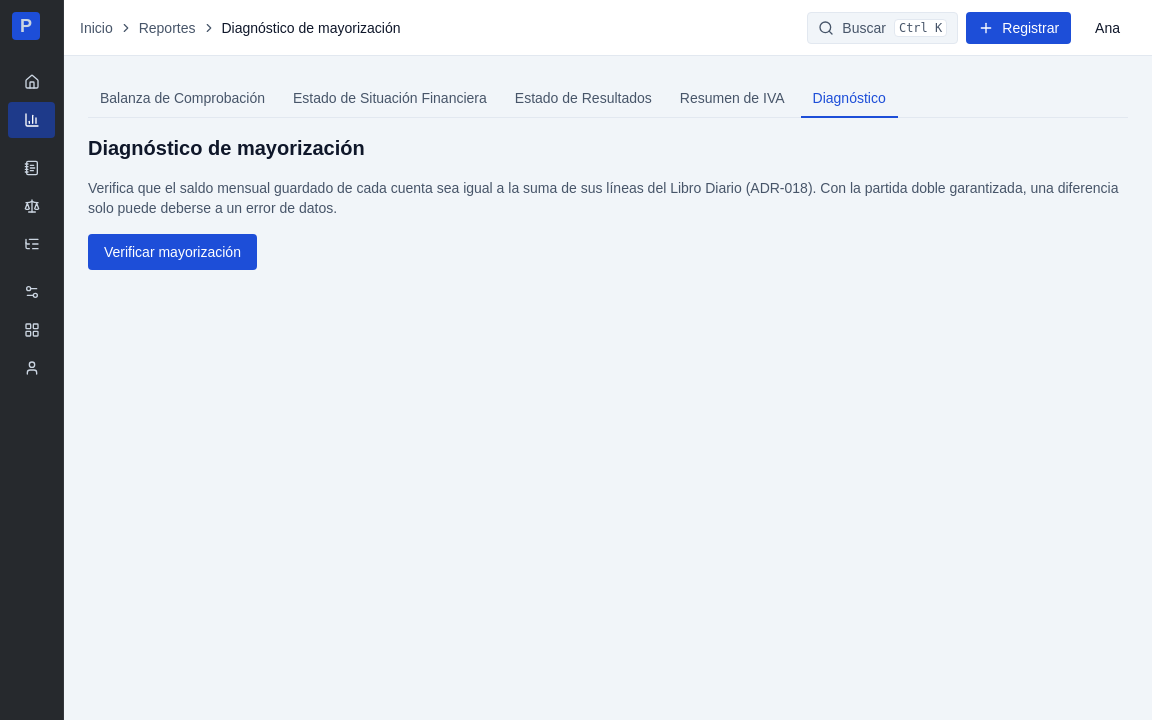
Scenario: Diagnóstico de mayorización › muestra la tabla de diferencias cuando no es consistente
The width and height of the screenshot is (1152, 720).
Expected: the heading "Diagnóstico de mayorización" is shown, left=88, top=137, right=365, bottom=159
Click the button "Verificar mayorización" at (172, 252), box left=88, top=234, right=257, bottom=270
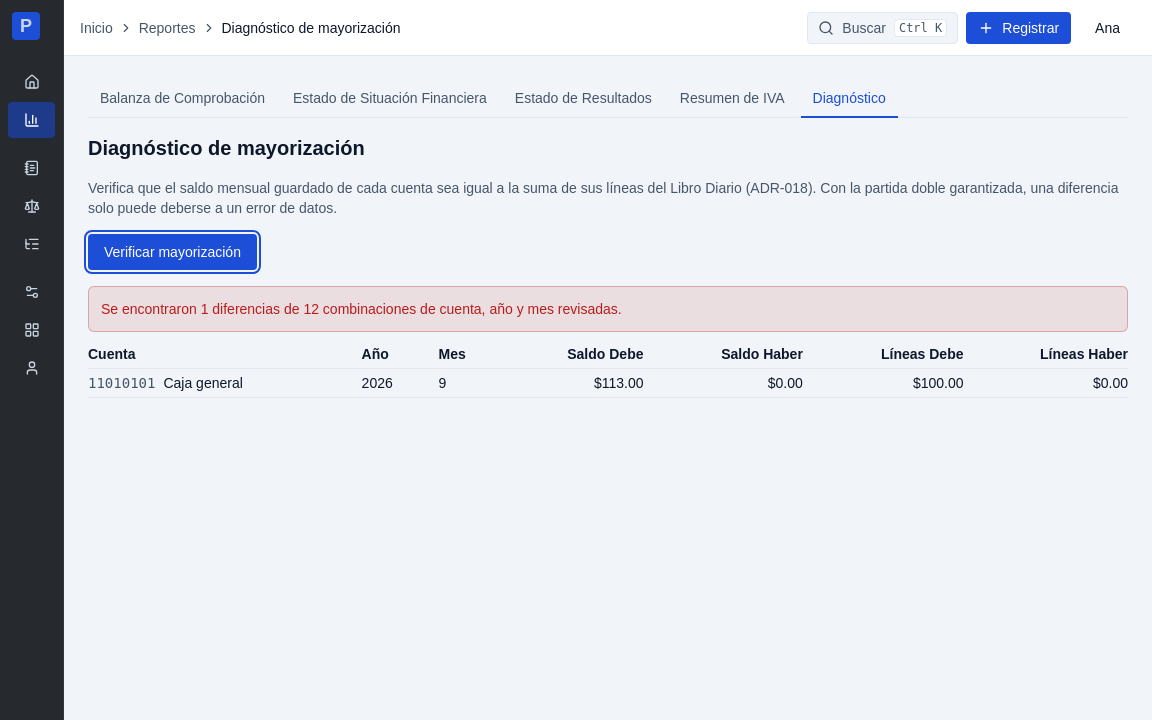
Expected: the table named "Diferencias de mayorización" shows "11010101", left=88, top=375, right=155, bottom=391
Expected: the table named "Diferencias de mayorización" shows "$113.00", left=594, top=375, right=644, bottom=391
